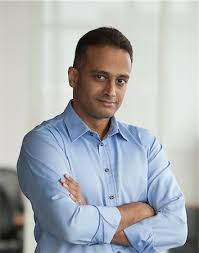Indian_Male: (71, 34, 133, 118)
